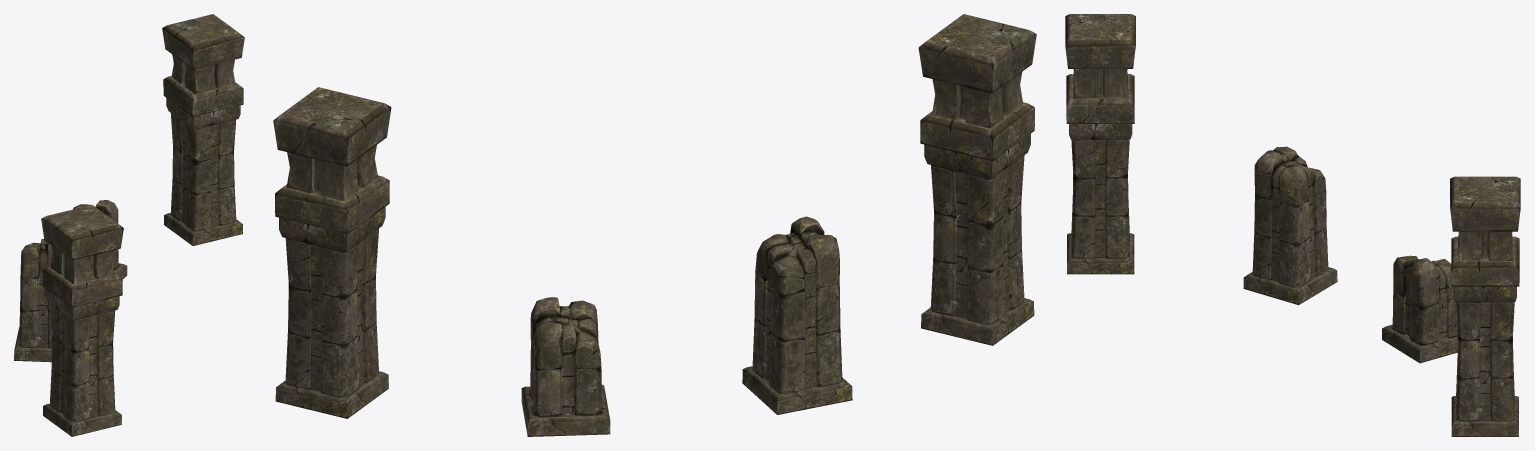
The model's file is Column_Alley_Rounded_05-transformed.glb.
The picture shows the model from 3 angles, left to right: view 1: azimuth 30°, elevation 25°; view 2: azimuth 150°, elevation 25°; view 3: azimuth 270°, elevation 25°; orthographic projection. The views are drawn at different scales.
Visible parts, largest first — view 1: default; view 2: default; view 3: default.
Boxes of the visible parts, <box> form: default: <box>14,14,244,436</box>; default: <box>273,14,1036,436</box>; default: <box>1065,14,1520,436</box>.
Bounding box in the file's own units: 7.1 × 4.01 × 7.1.
Materials: 1 (1 with a texture image).
